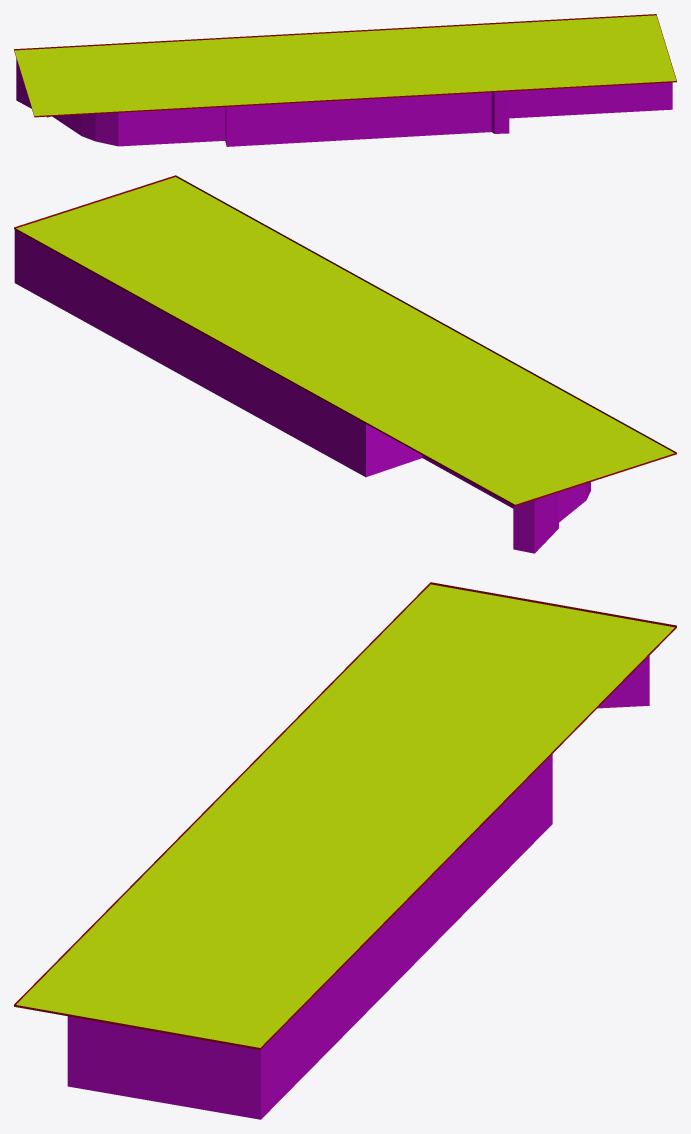
Rendered from sag_31.glb.
3 renders of one model, top to bottom at view 1: azimuth 30°, elevation 25°; view 2: azimuth 150°, elevation 25°; view 3: azimuth 270°, elevation 25°, orthographic. The views are drawn at different scales.
Parts seen in each view (by area): view 1: sag_31; view 2: sag_31; view 3: sag_31.
Part boxes in pixels (x1,y1,x2,y2): sag_31: (14, 14, 676, 146); sag_31: (14, 175, 676, 553); sag_31: (14, 582, 676, 1119).
Bounding box in the file's own units: 161 × 11.64 × 96.6.
